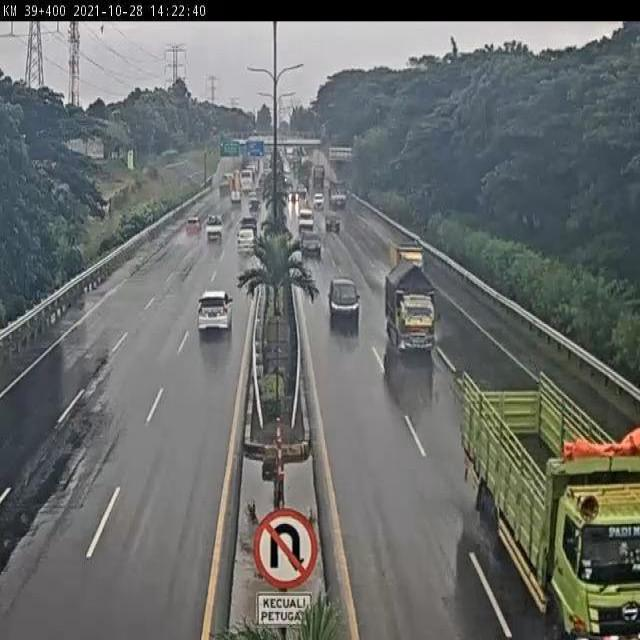car: (196, 288, 233, 333), (328, 279, 359, 320), (301, 228, 321, 257), (236, 228, 257, 251), (205, 215, 224, 237), (184, 216, 203, 237), (239, 214, 258, 234), (296, 208, 314, 229), (324, 209, 340, 231)
truck-l-: (458, 369, 640, 640)
truck-m-: (384, 254, 440, 354), (389, 239, 425, 280)
